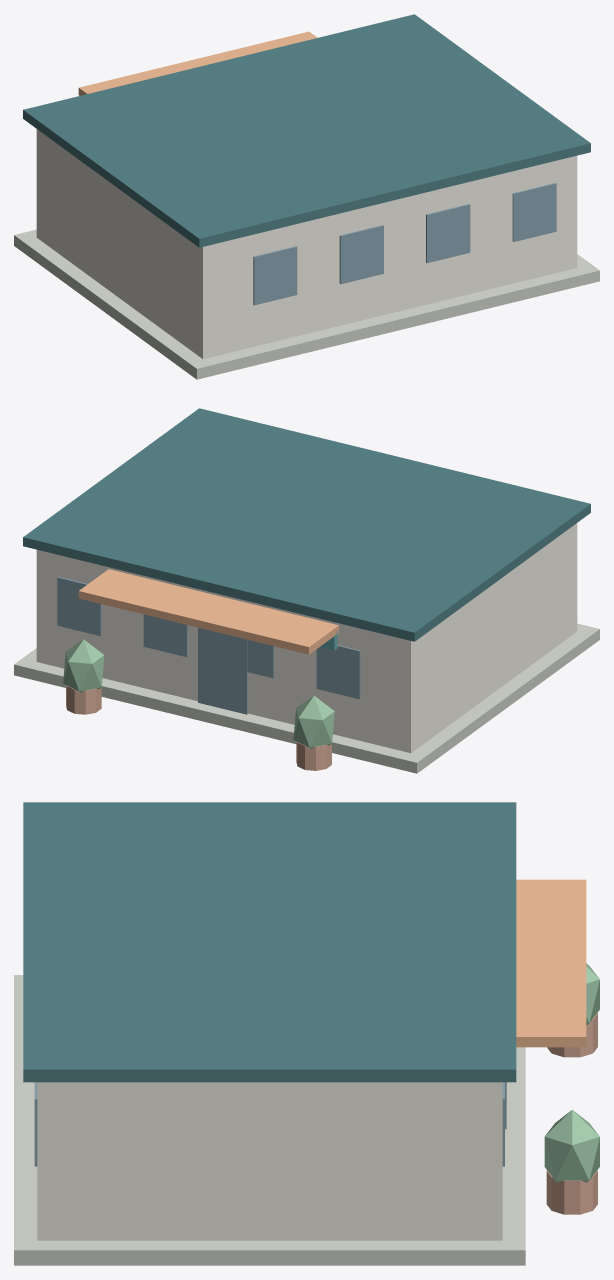
The model's file is dispatch_office.glb.
3 renders of one model, top to bottom at view 1: azimuth 30°, elevation 25°; view 2: azimuth 150°, elevation 25°; view 3: azimuth 270°, elevation 25°, orthographic. The views are drawn at different scales.
Visible parts, largest first — view 1: dispatch_office__roof, dispatch_office__walls, dispatch_office__plinth, dispatch_office__window.002, dispatch_office__window, dispatch_office__window.006, dispatch_office__window.004, dispatch_office__awning; view 2: dispatch_office__roof, dispatch_office__walls, dispatch_office__plinth, dispatch_office__awning, dispatch_office__front_door, dispatch_office__window.001, dispatch_office__window.007, dispatch_office__plant.001, dispatch_office__plant, dispatch_office__window.005, dispatch_office__window.003, dispatch_office__plant_pot.001 (+1 smaller); view 3: dispatch_office__roof, dispatch_office__walls, dispatch_office__plinth, dispatch_office__awning, dispatch_office__plant.001, dispatch_office__plant_pot.001, dispatch_office__plant_pot, dispatch_office__plant.
Part boxes in pixels (x1,y1,x2,y2): dispatch_office__roof: (23, 14, 590, 247); dispatch_office__walls: (36, 129, 577, 359); dispatch_office__plinth: (14, 229, 599, 379); dispatch_office__window.002: (339, 225, 383, 284); dispatch_office__window: (253, 246, 297, 305); dispatch_office__window.006: (512, 183, 556, 241); dispatch_office__window.004: (426, 204, 470, 263); dispatch_office__awning: (78, 31, 317, 95); dispatch_office__roof: (23, 408, 590, 641); dispatch_office__walls: (36, 523, 577, 753); dispatch_office__plinth: (14, 623, 599, 773); dispatch_office__awning: (78, 569, 338, 654); dispatch_office__front_door: (198, 627, 248, 714); dispatch_office__window.001: (316, 645, 360, 699); dispatch_office__window.007: (57, 577, 101, 635); dispatch_office__plant.001: (63, 639, 104, 692); dispatch_office__plant: (293, 695, 334, 748); dispatch_office__window.005: (143, 614, 187, 657); dispatch_office__window.003: (247, 639, 274, 678); dispatch_office__plant_pot.001: (66, 686, 101, 714); dispatch_office__roof: (23, 802, 516, 1082); dispatch_office__walls: (37, 1082, 502, 1240); dispatch_office__plinth: (14, 975, 525, 1265); dispatch_office__awning: (516, 879, 586, 1047); dispatch_office__plant.001: (544, 1109, 599, 1182); dispatch_office__plant_pot.001: (546, 1170, 597, 1214); dispatch_office__plant_pot: (547, 1013, 597, 1057); dispatch_office__plant: (586, 963, 599, 1025).
Bounding box in the file's own units: 14 × 4.55 × 12.6.
